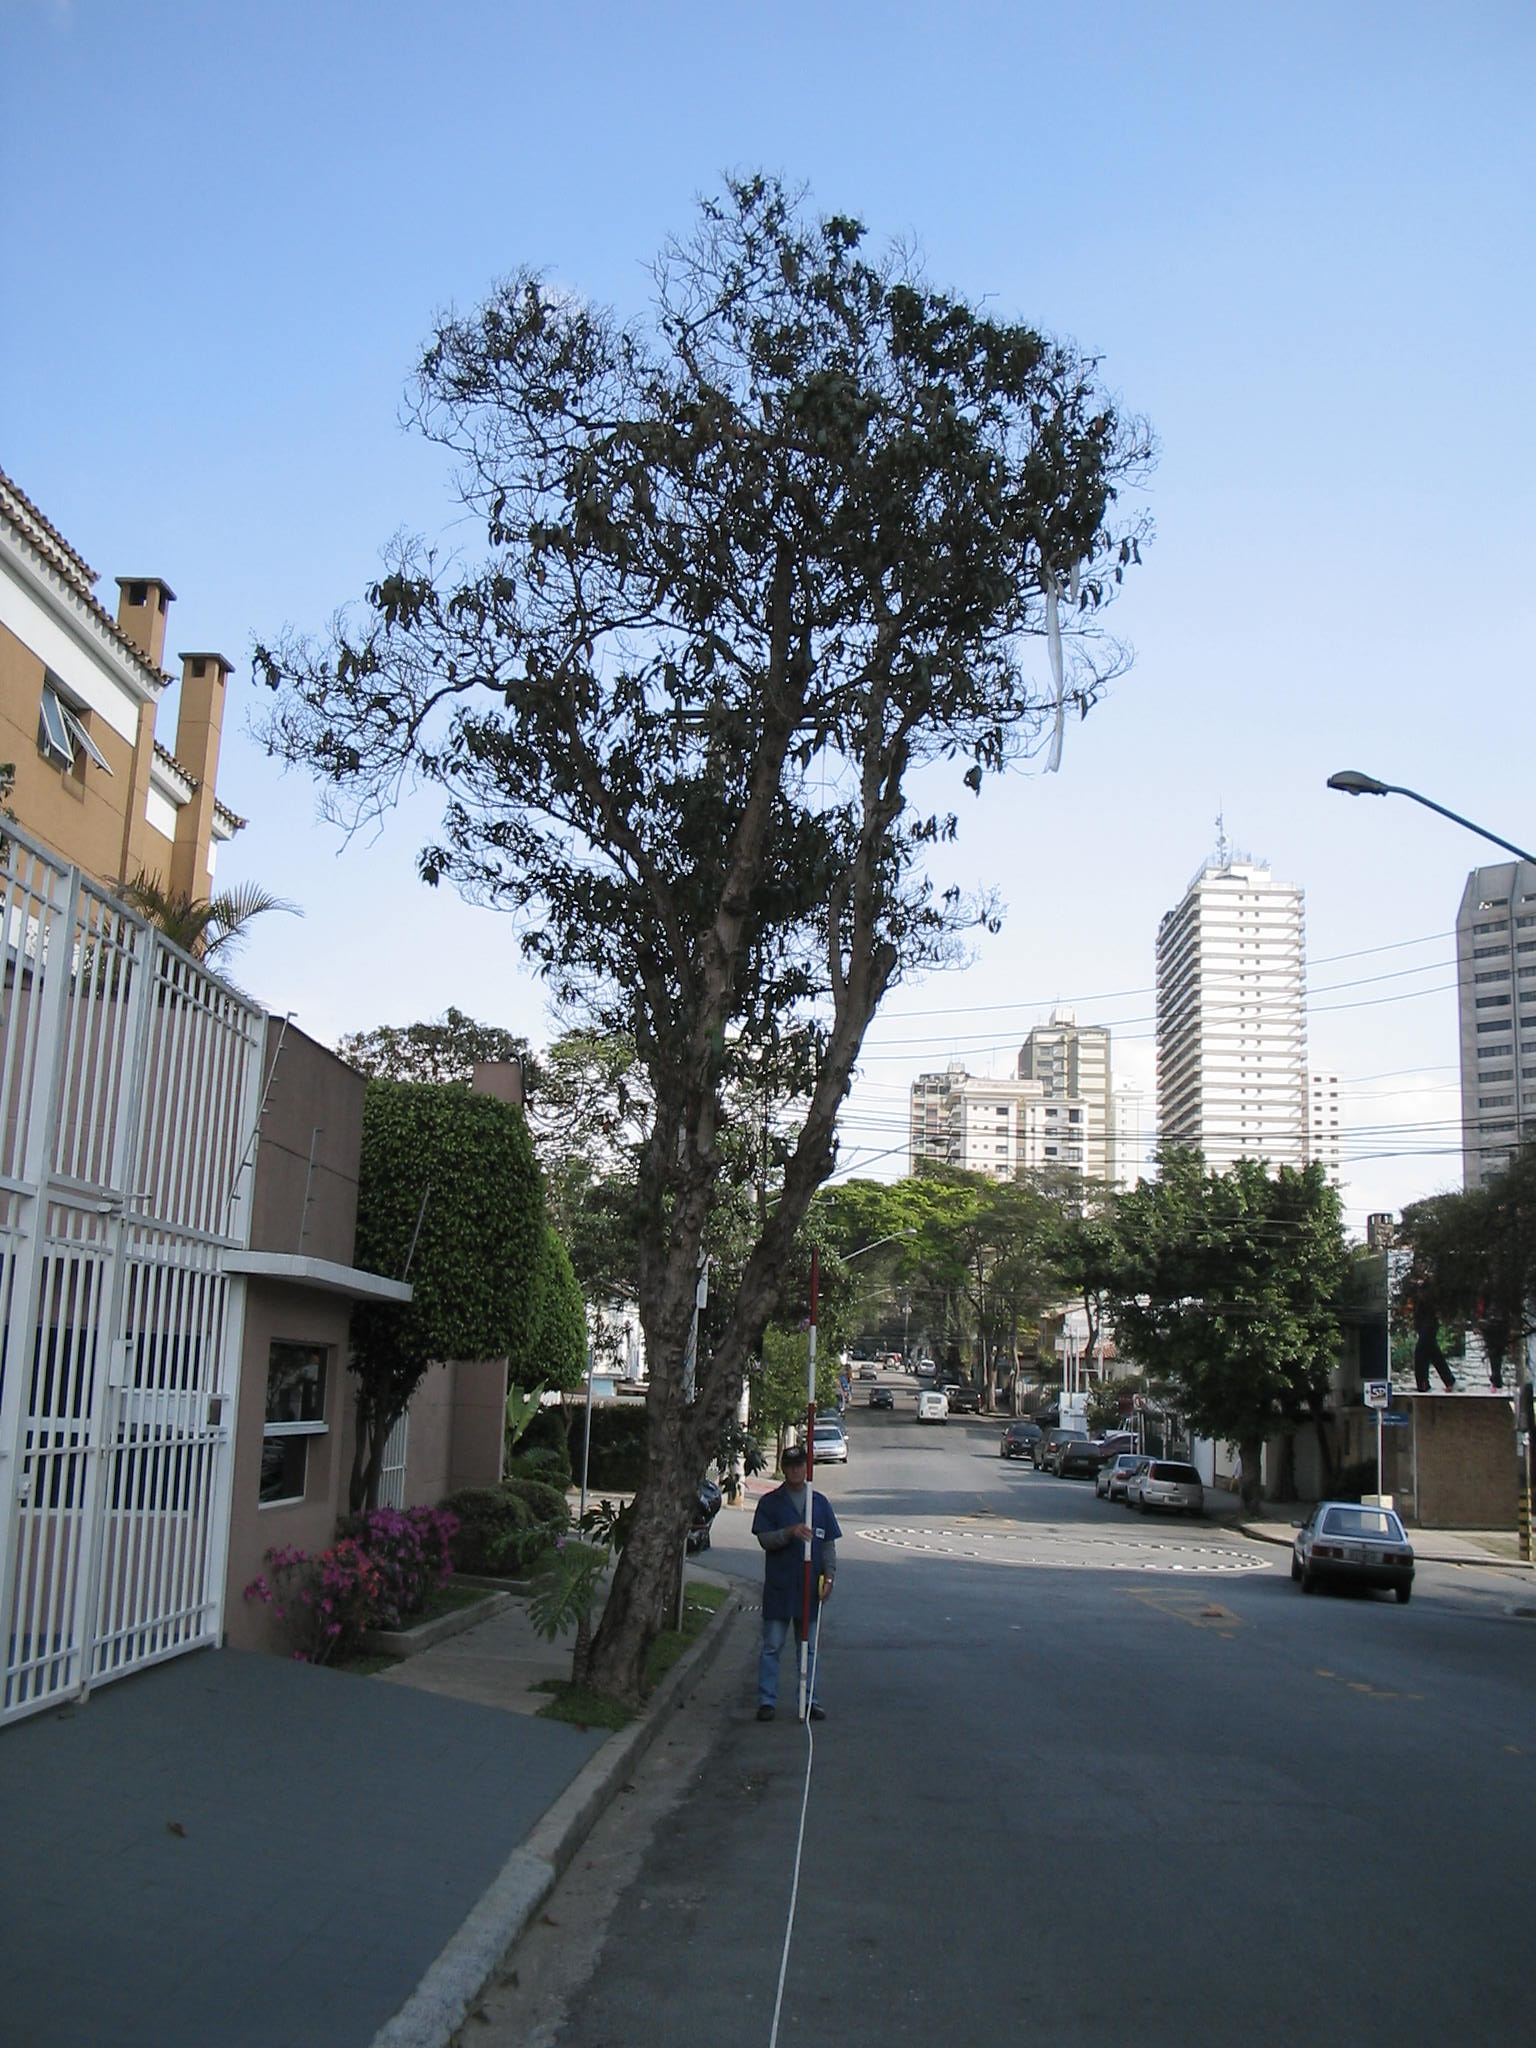crown: (261, 169, 1154, 1072)
stem: (550, 1432, 734, 1719)
stick: (779, 1247, 837, 1724)
tree: (257, 169, 1158, 1717)
